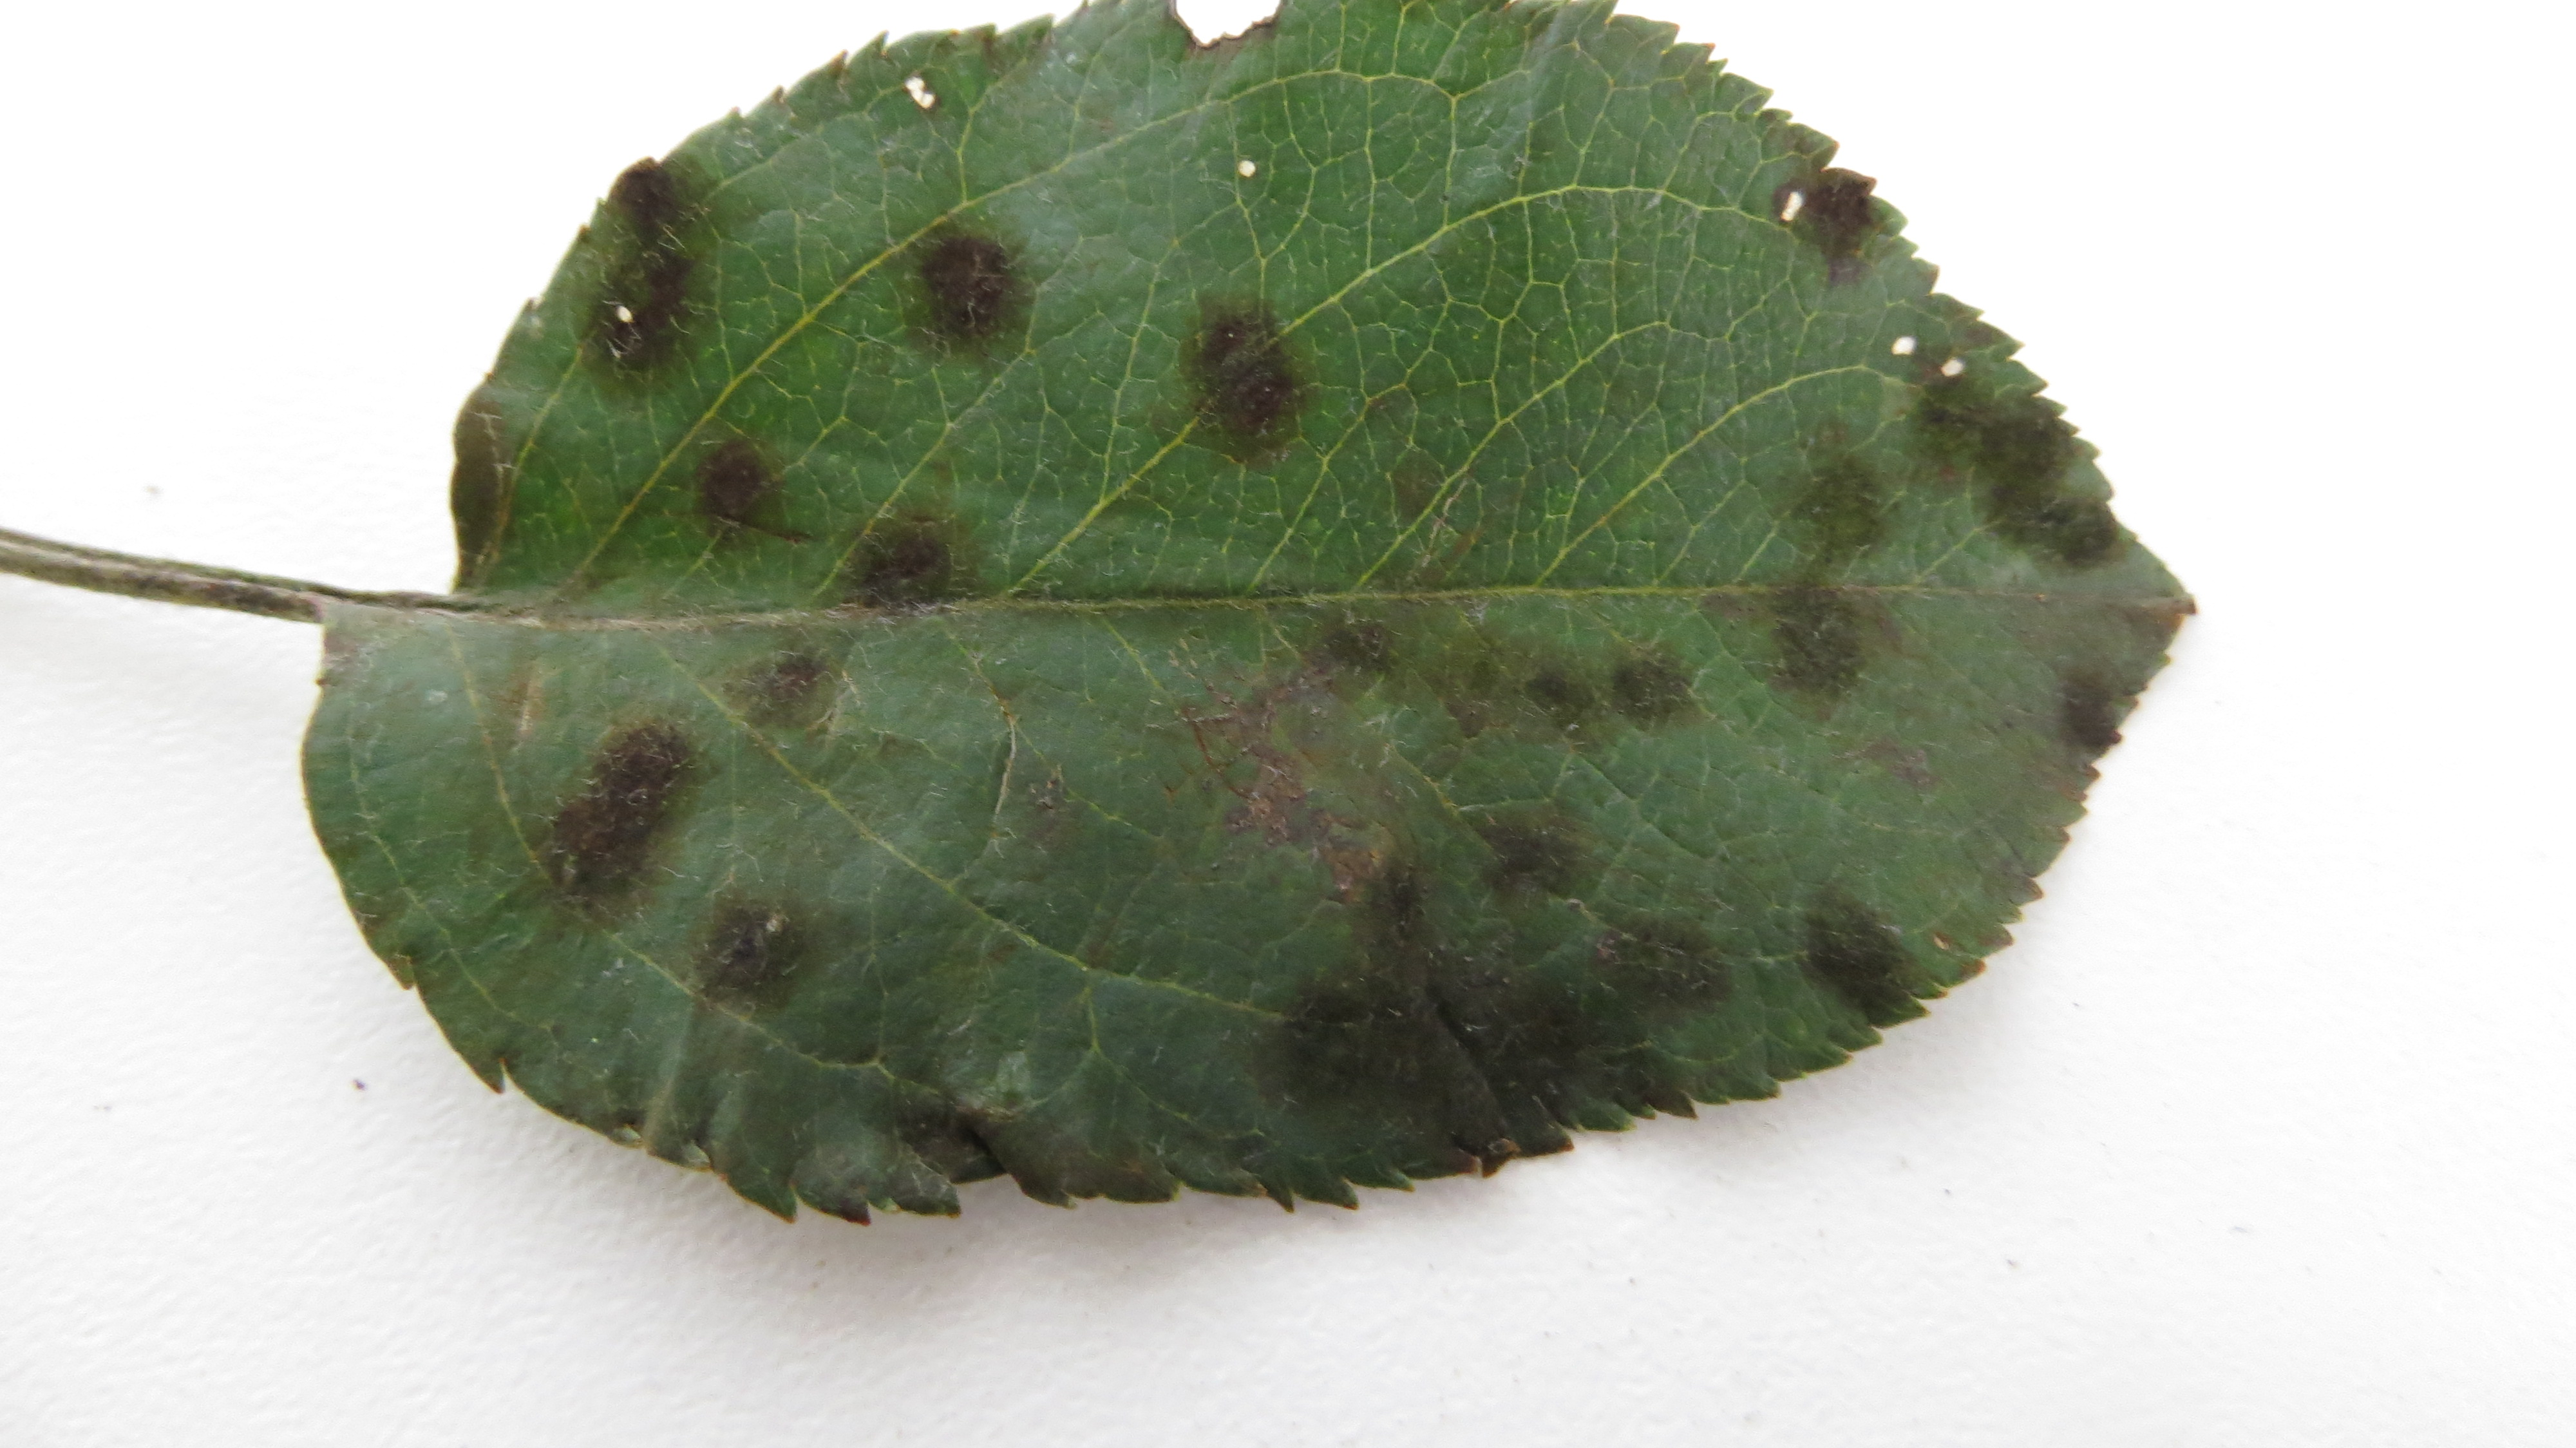sarna: (1364, 862, 1629, 1151), (1909, 343, 2137, 604), (1175, 667, 1401, 880), (570, 135, 732, 402), (508, 710, 709, 919), (879, 1073, 1070, 1234), (1247, 961, 1430, 1117), (1175, 273, 1316, 473), (1721, 561, 1893, 722), (828, 492, 985, 623), (1764, 416, 1891, 575), (1773, 131, 1891, 301), (1458, 768, 1587, 919), (1801, 866, 1916, 1034), (902, 211, 1026, 366), (1451, 641, 1614, 751), (732, 614, 865, 747), (1384, 444, 1507, 586), (681, 871, 803, 1007), (984, 729, 1095, 878), (1576, 899, 1729, 1007), (683, 416, 793, 554), (1295, 586, 1421, 683), (1608, 635, 1714, 747), (2031, 648, 2123, 754)
